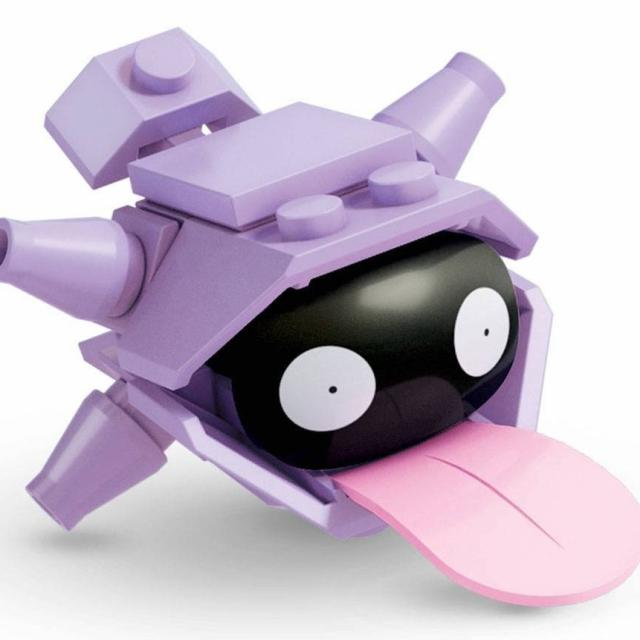Shellder: (40, 46, 548, 540)
